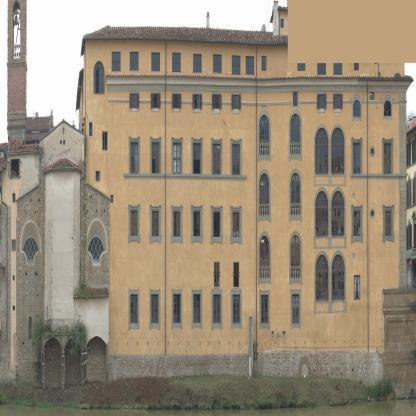Building Outline: (15, 0, 414, 391)
Cornice: (380, 93, 395, 103), (349, 93, 364, 103)
Facade: (16, 11, 414, 390), (333, 63, 342, 75)
Floor: (110, 118, 256, 186), (110, 186, 256, 250), (314, 118, 407, 184), (314, 184, 407, 249), (85, 91, 257, 118), (256, 91, 314, 168), (256, 229, 314, 291), (256, 168, 314, 229), (314, 92, 407, 126)
Floor Slab: (85, 85, 257, 91), (85, 112, 257, 118), (85, 180, 256, 186), (110, 243, 256, 250), (314, 118, 407, 125), (314, 242, 407, 249), (314, 85, 407, 91), (314, 177, 407, 183), (256, 85, 314, 91), (256, 222, 314, 228), (256, 161, 314, 167), (256, 284, 314, 290)
Ground Floor: (16, 169, 110, 390), (110, 250, 256, 378), (314, 249, 407, 377), (256, 290, 314, 377)
Molding: (107, 84, 411, 92)
Pillar: (41, 349, 46, 391), (61, 350, 65, 390), (80, 350, 84, 387), (84, 346, 87, 383), (106, 346, 109, 383)
Roof: (83, 25, 288, 45), (42, 159, 83, 174), (73, 286, 110, 297)
Sill: (123, 174, 247, 180), (351, 173, 408, 180)
Top Floor: (85, 39, 257, 91), (314, 44, 407, 91), (256, 44, 314, 91)
Window: (87, 221, 107, 264), (21, 223, 40, 263), (23, 237, 39, 261), (88, 236, 104, 260), (332, 271, 345, 300), (316, 272, 329, 301), (316, 146, 329, 175), (332, 208, 345, 237), (316, 208, 329, 237), (332, 146, 345, 175), (94, 60, 105, 93), (259, 125, 269, 155), (291, 246, 300, 278), (291, 184, 300, 215), (260, 247, 269, 278), (260, 185, 269, 216), (291, 125, 300, 155), (173, 143, 181, 174), (193, 143, 201, 174), (315, 127, 328, 145), (331, 127, 344, 145), (131, 142, 138, 174), (152, 142, 159, 174), (332, 254, 345, 271), (315, 191, 328, 208), (233, 144, 240, 175), (213, 144, 220, 175), (353, 143, 360, 174), (384, 143, 391, 174), (316, 255, 329, 271), (331, 191, 344, 207), (214, 294, 221, 323), (194, 295, 201, 324), (131, 295, 138, 324), (152, 295, 159, 324), (174, 295, 181, 324), (292, 294, 299, 323), (261, 295, 268, 324), (233, 295, 240, 323), (213, 54, 222, 74), (151, 52, 160, 72), (152, 212, 159, 237), (173, 212, 180, 237), (213, 212, 220, 237), (385, 211, 392, 236), (193, 54, 202, 73), (232, 55, 240, 75), (112, 51, 120, 71), (172, 53, 180, 72), (246, 56, 254, 75), (130, 52, 138, 71), (233, 212, 239, 237), (131, 211, 137, 236), (194, 212, 200, 237), (214, 262, 220, 287), (354, 211, 360, 236), (354, 275, 360, 300), (353, 100, 361, 117), (234, 262, 239, 287), (259, 235, 269, 247), (102, 131, 108, 150), (384, 100, 391, 116), (259, 173, 269, 184), (317, 63, 326, 75), (259, 115, 269, 125), (291, 114, 300, 125), (291, 173, 300, 184), (291, 235, 300, 246), (153, 93, 158, 108), (262, 56, 267, 71), (132, 93, 137, 108), (293, 92, 298, 106), (214, 95, 219, 109), (174, 94, 179, 108), (298, 63, 306, 71), (195, 94, 199, 109), (336, 94, 340, 108), (320, 94, 324, 108), (234, 95, 238, 109), (90, 122, 93, 136), (354, 63, 359, 71), (96, 171, 100, 181), (370, 92, 374, 100), (111, 195, 113, 203)
